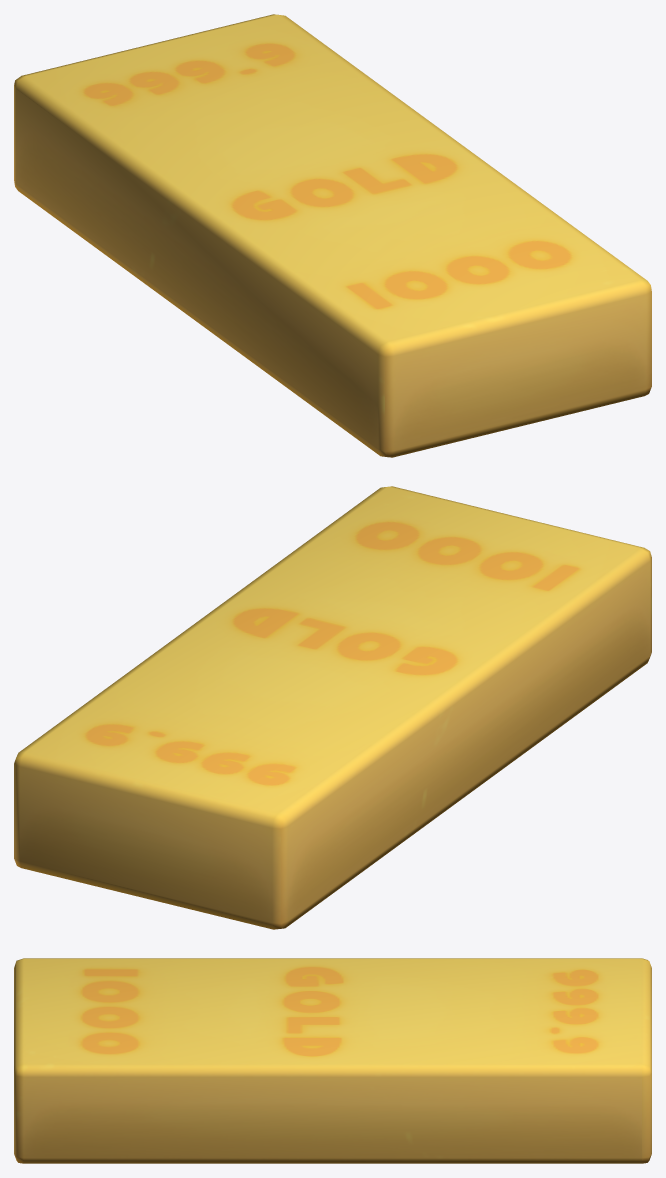
File: BankGoldBars01_5.FBX
3 views of the same model, one above another, from view 1: azimuth 30°, elevation 25°; view 2: azimuth 150°, elevation 25°; view 3: azimuth 270°, elevation 25° (orthographic). The views are drawn at different scales.
Parts seen in each view (by area): view 1: BankGoldBars01_5; view 2: BankGoldBars01_5; view 3: BankGoldBars01_5.
Part boxes in pixels (bbox=[...]): BankGoldBars01_5: bbox=[14, 14, 651, 457]; BankGoldBars01_5: bbox=[14, 486, 651, 929]; BankGoldBars01_5: bbox=[14, 958, 651, 1163].
Size of what is drawn, in the model's own units: 0.1627 by 0.0661 by 0.3871.
